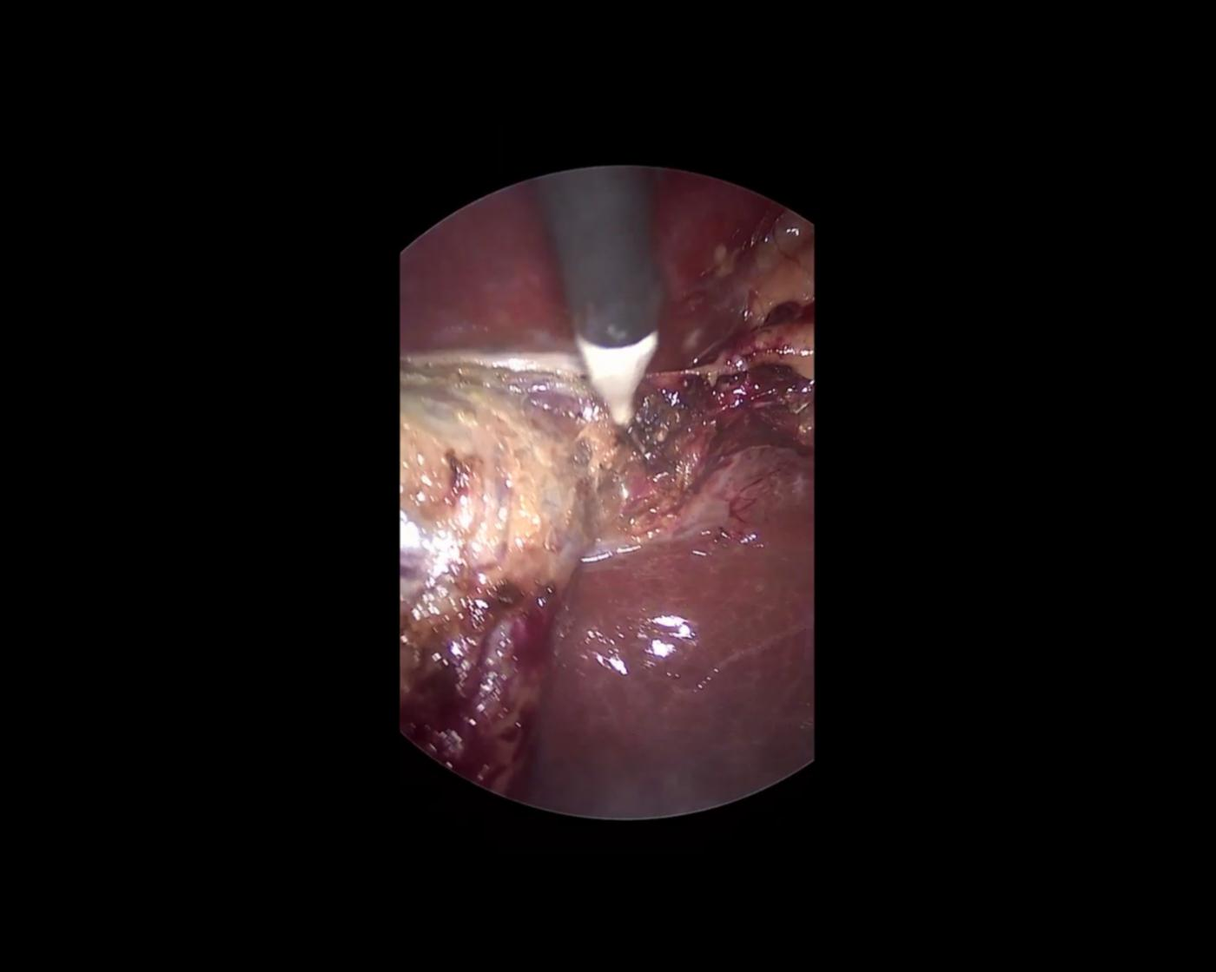Cautery: (530, 160, 693, 470)
Liver: (521, 452, 810, 815), (400, 166, 782, 372)
